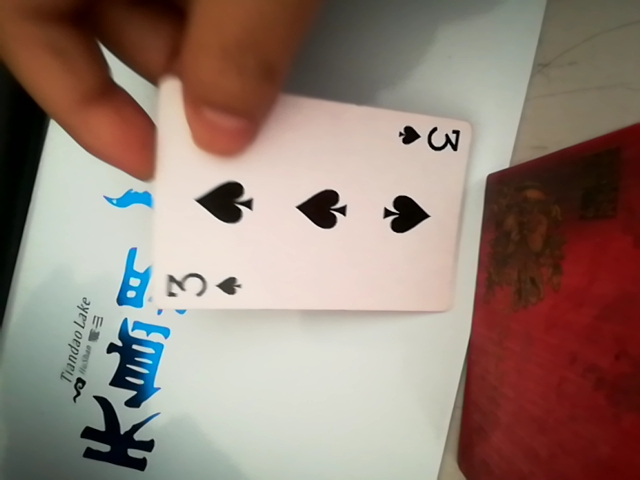ht 3: (149, 100, 468, 323)
